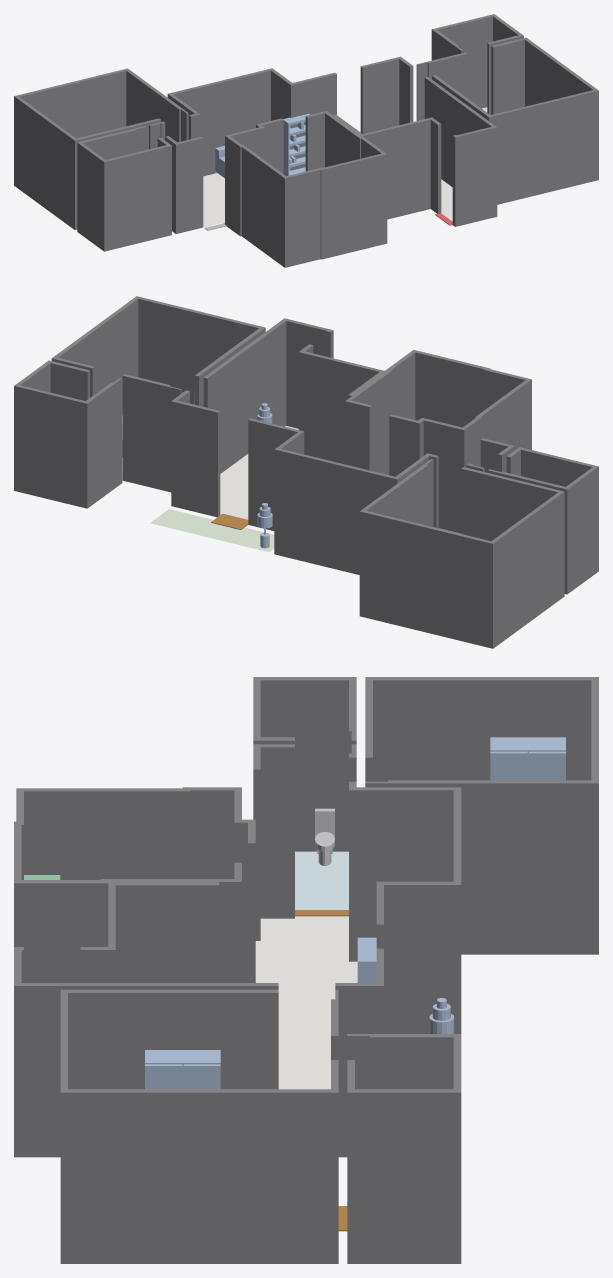
The picture shows the model from 3 angles, top to bottom: view 1: azimuth 30°, elevation 25°; view 2: azimuth 150°, elevation 25°; view 3: azimuth 270°, elevation 25°; orthographic projection. The views are drawn at different scales.
Parts seen in each view (by area): view 1: walls:verify-plan-upload-F0-S001, walls:verify-plan-upload-F0-S006, walls:verify-plan-upload-F0-S002, walls:verify-plan-upload-F0-S003, walls:verify-plan-upload-F0-S004, walls:verify-plan-upload-F0-S005, verify-plan-upload-F0-S001, resplan-102-A00004; view 2: walls:verify-plan-upload-F0-S001, walls:verify-plan-upload-F0-S003, walls:verify-plan-upload-F0-S006, walls:verify-plan-upload-F0-S002, walls:verify-plan-upload-F0-S005, walls:verify-plan-upload-F0-S004, verify-plan-upload-F0-S007, verify-plan-upload-F0-S001, resplan-102-A00019; view 3: walls:verify-plan-upload-F0-S002, walls:verify-plan-upload-F0-S001, walls:verify-plan-upload-F0-S003, walls:verify-plan-upload-F0-S006, walls:verify-plan-upload-F0-S005, verify-plan-upload-F0-S001, walls:verify-plan-upload-F0-S004, resplan-102-A00009, resplan-102-A00007, verify-plan-upload-F0-S004, resplan-102-A00011, resplan-102-A00004 (+1 smaller).
Boxes of the visible parts, left/top/right/bottom form: walls:verify-plan-upload-F0-S001: left=149, top=56, right=497, bottom=233; walls:verify-plan-upload-F0-S006: left=225, top=111, right=387, bottom=267; walls:verify-plan-upload-F0-S002: left=416, top=37, right=598, bottom=204; walls:verify-plan-upload-F0-S003: left=14, top=68, right=188, bottom=229; walls:verify-plan-upload-F0-S004: left=77, top=126, right=171, bottom=251; walls:verify-plan-upload-F0-S005: left=431, top=14, right=523, bottom=114; verify-plan-upload-F0-S001: left=203, top=173, right=452, bottom=227; resplan-102-A00004: left=283, top=113, right=310, bottom=175; walls:verify-plan-upload-F0-S001: left=171, top=318, right=514, bottom=574; walls:verify-plan-upload-F0-S003: left=359, top=459, right=564, bottom=648; walls:verify-plan-upload-F0-S006: left=345, top=350, right=531, bottom=533; walls:verify-plan-upload-F0-S002: left=51, top=296, right=265, bottom=492; walls:verify-plan-upload-F0-S005: left=14, top=360, right=122, bottom=508; walls:verify-plan-upload-F0-S004: left=487, top=447, right=598, bottom=594; verify-plan-upload-F0-S007: left=150, top=509, right=274, bottom=552; verify-plan-upload-F0-S001: left=220, top=426, right=298, bottom=519; resplan-102-A00019: left=257, top=503, right=272, bottom=548; walls:verify-plan-upload-F0-S002: left=60, top=989, right=338, bottom=1263; walls:verify-plan-upload-F0-S001: left=14, top=744, right=461, bottom=1157; walls:verify-plan-upload-F0-S003: left=365, top=677, right=598, bottom=954; walls:verify-plan-upload-F0-S006: left=14, top=787, right=255, bottom=982; walls:verify-plan-upload-F0-S005: left=347, top=1034, right=461, bottom=1263; verify-plan-upload-F0-S001: left=255, top=916, right=357, bottom=1089; walls:verify-plan-upload-F0-S004: left=253, top=677, right=356, bottom=851; resplan-102-A00009: left=490, top=737, right=565, bottom=780; resplan-102-A00007: left=145, top=1050, right=220, bottom=1089; verify-plan-upload-F0-S004: left=295, top=851, right=348, bottom=909; resplan-102-A00011: left=315, top=808, right=334, bottom=865; resplan-102-A00004: left=357, top=937, right=376, bottom=982.
Bounding box in the file's own units: 15.6 × 3 × 9.28.
